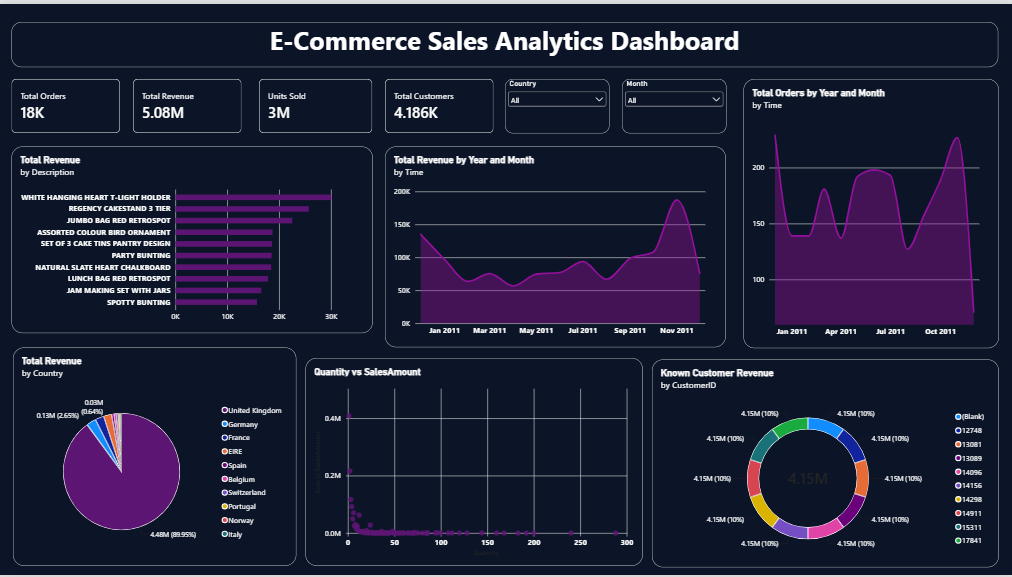

What the dashboard file says about the page in this screenshot:
{"tool":"powerbi","page":{"name":"Page 1","canvas":[1920,1080],"ordinal":0},"visuals":[{"type":"barChart","fields":{"Category":["online_retail_cleaned.Description"],"Y":["Calendar.Total Revenue"]},"box":[26.5,270.6,682.4,352.9],"z":0},{"type":"pieChart","fields":{"Category":["online_retail_cleaned.Country"],"Y":["Calendar.Total Revenue"]},"box":[27.5,650,535,412.5],"z":1},{"type":"lineChart","fields":{"Category":["online_retail_cleaned.InvoiceDate.Variation.Date Hierarchy.Year","online_retail_cleaned.InvoiceDate.Variation.Date Hierarchy.Month"],"Y":["Calendar.Total Revenue"]},"box":[732.4,270.6,644.1,379.4],"z":2},{"type":"scatterChart","title":"Quantity vs SalesAmount","fields":{"X":["online_retail_cleaned.Quantity"],"Y":["Sum(online_retail_cleaned.SalesAmount)"]},"box":[580,670,637.5,392.5],"z":3},{"type":"donutChart","fields":{"Category":["online_retail_cleaned.CustomerID"],"Y":["Calendar.Known Customer Revenue"]},"box":[1235.3,670.6,655,392.5],"z":4},{"type":"lineChart","fields":{"Category":["online_retail_cleaned.InvoiceDate.Variation.Date Hierarchy.Year","online_retail_cleaned.InvoiceDate.Variation.Date Hierarchy.Month"],"Y":["Calendar.Total Orders"]},"box":[1408.8,141.2,482.4,508.8],"z":5},{"type":"textbox","box":[26.5,35.3,1864.7,85.3],"z":6},{"type":"cardVisual","fields":{"Data":["Calendar.Total Orders"]},"box":[26.5,141.2,205.9,102.9],"z":7},{"type":"cardVisual","fields":{"Data":["Calendar.Total Revenue"]},"box":[255.9,141.2,205.9,102.9],"z":8},{"type":"cardVisual","fields":{"Data":["Calendar.Units Sold"]},"box":[494.1,141.2,214.7,102.9],"z":9},{"type":"cardVisual","fields":{"Data":["Count(online_retail_cleaned.CustomerID)"]},"box":[732.4,141.2,205.9,102.9],"z":10},{"type":"slicer","fields":{"Values":["online_retail_cleaned.Country"]},"box":[958.8,141.2,197.1,102.9],"z":11},{"type":"slicer","fields":{"Values":["online_retail_cleaned.InvoiceDate.Variation.Date Hierarchy.Month"]},"box":[1179.4,141.2,197.1,102.9],"z":12}]}

Visuals, with their boxes in screenshot pixels (x1, y1, x2, y2), scaled from the page's 1920x1080 canvas onto the 1012x577 screenshot:
barChart - online_retail_cleaned.Description x Calendar.Total Revenue: [14,145,374,333]
pieChart - online_retail_cleaned.Country x Calendar.Total Revenue: [14,347,296,568]
lineChart - online_retail_cleaned.InvoiceDate.Variation.Date Hierarchy.Year x online_retail_cleaned.InvoiceDate.Variation.Date Hierarchy.Month: [386,145,726,347]
"Quantity vs SalesAmount" scatterChart: [306,358,642,568]
donutChart - online_retail_cleaned.CustomerID x Calendar.Known Customer Revenue: [651,358,996,568]
lineChart - online_retail_cleaned.InvoiceDate.Variation.Date Hierarchy.Year x online_retail_cleaned.InvoiceDate.Variation.Date Hierarchy.Month: [743,75,997,347]
textbox: [14,19,997,64]
cardVisual - Calendar.Total Orders: [14,75,122,130]
cardVisual - Calendar.Total Revenue: [135,75,243,130]
cardVisual - Calendar.Units Sold: [260,75,374,130]
cardVisual - Count(online_retail_cleaned.CustomerID): [386,75,495,130]
slicer - online_retail_cleaned.Country: [505,75,609,130]
slicer - online_retail_cleaned.InvoiceDate.Variation.Date Hierarchy.Month: [622,75,726,130]
